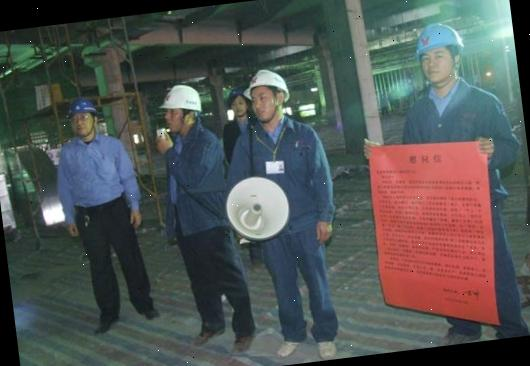helmet: (409, 18, 463, 59), (242, 64, 290, 106), (156, 81, 208, 118), (68, 96, 98, 116)
no_wear: (56, 138, 130, 217)
wear: (162, 131, 231, 235), (398, 86, 510, 146), (235, 120, 321, 187)
